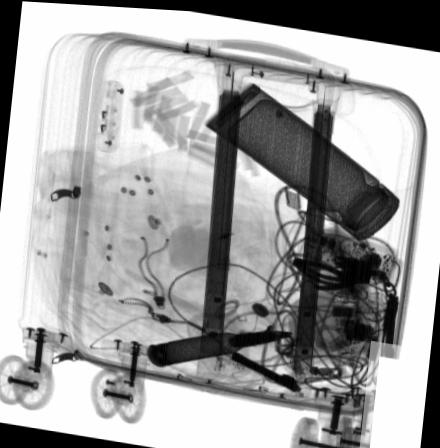Bullet: (145, 326, 292, 366)
Gun: (230, 347, 301, 389)
HandCuffs: (290, 248, 399, 355)
